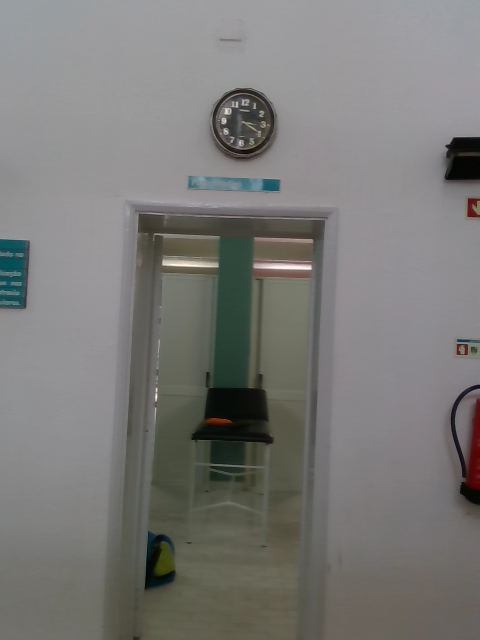open: (109, 197, 337, 639)
